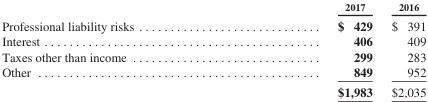table: (1, 0, 425, 98)
table column: (1, 0, 235, 98), (235, 0, 381, 98), (381, 0, 425, 98)
table column header: (1, 0, 425, 15)
table row: (1, 15, 425, 33), (1, 63, 425, 81), (1, 81, 425, 98), (1, 0, 425, 15), (1, 33, 425, 48), (1, 48, 425, 63)
